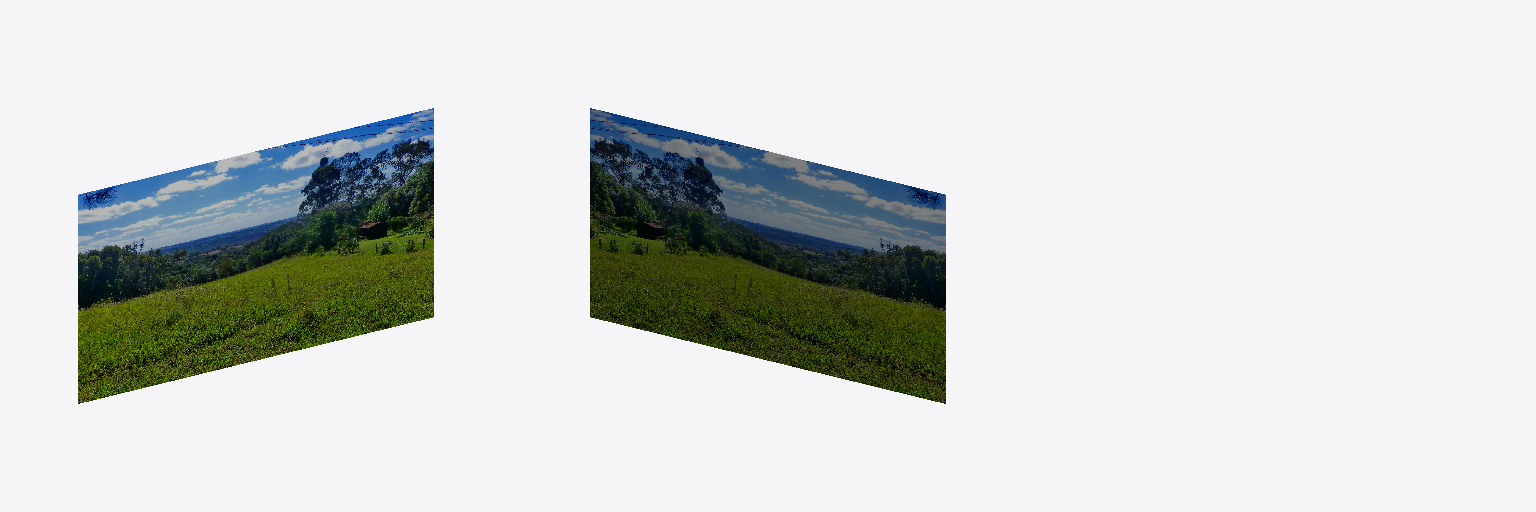
3 views of the same model, side by side, from view 1: azimuth 30°, elevation 25°; view 2: azimuth 150°, elevation 25°; view 3: azimuth 270°, elevation 25° (orthographic).
Parts seen in each view (by area): view 1: Paisagem_01(acoita); view 2: Paisagem_01(acoita); view 3: none.
Part boxes in pixels (x1,y1,x2,y2): Paisagem_01(acoita): (78, 108, 433, 403); Paisagem_01(acoita): (590, 108, 945, 403).
Bounding box in the file's own units: 1.78 × 1 × 0.
1 materials, 1 textured.